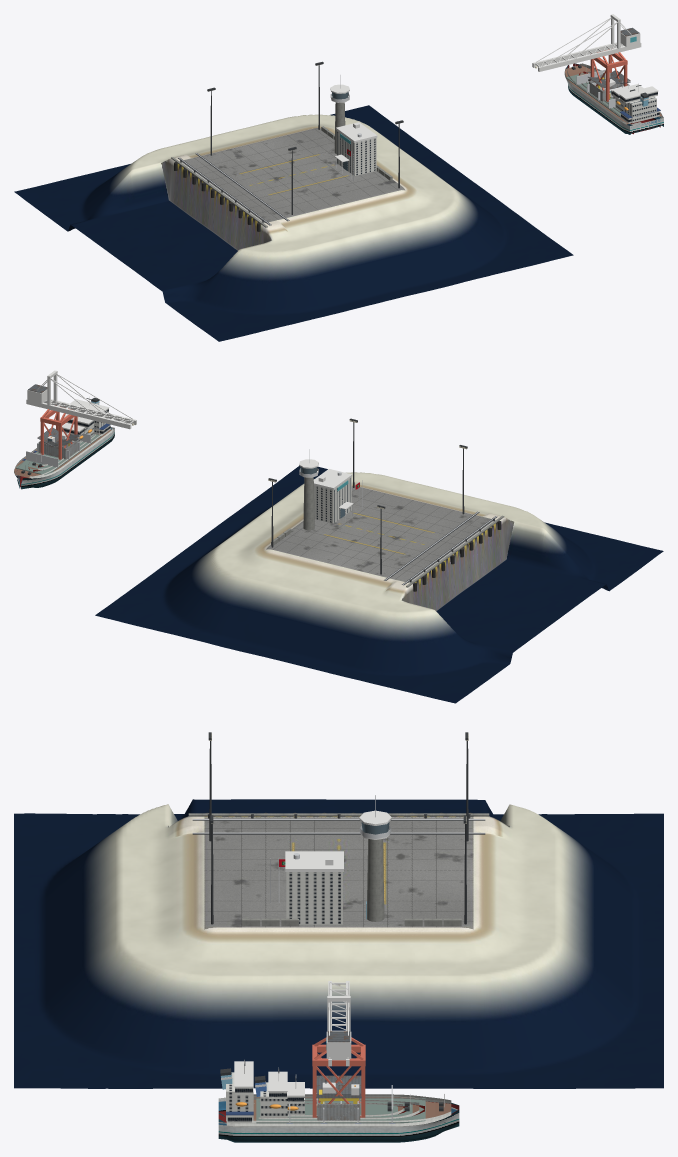
File: port.glb
The picture shows the model from 3 angles, top to bottom: view 1: azimuth 30°, elevation 25°; view 2: azimuth 150°, elevation 25°; view 3: azimuth 270°, elevation 25°; orthographic projection. The views are drawn at different scales.
Parts seen in each view (by area): view 1: terrain3, wharf3, sts_frame, ship_auto, ship_ulcc, bay_shed; view 2: terrain3, wharf3, sts_frame, ship_auto, ship_ulcc, bay_shed; view 3: terrain3, wharf3, ship_auto, ship_ulcc, sts_frame, ship_panamax, bay_shed, ship_feeder.
Boxes of the visible parts, bbox=[...] form: terrain3: bbox=[14, 105, 573, 341]; wharf3: bbox=[171, 61, 403, 231]; sts_frame: bbox=[532, 14, 641, 101]; ship_auto: bbox=[564, 63, 663, 134]; ship_ulcc: bbox=[567, 63, 660, 134]; bay_shed: bbox=[588, 70, 630, 101]; terrain3: bbox=[95, 466, 663, 703]; wharf3: bbox=[268, 418, 504, 591]; sts_frame: bbox=[26, 370, 136, 459]; ship_auto: bbox=[14, 423, 114, 489]; ship_ulcc: bbox=[16, 396, 111, 488]; bay_shed: bbox=[37, 427, 80, 459]; terrain3: bbox=[14, 799, 663, 1088]; wharf3: bbox=[188, 732, 489, 926]; ship_auto: bbox=[218, 1085, 459, 1142]; ship_ulcc: bbox=[218, 1059, 459, 1125]; sts_frame: bbox=[312, 981, 365, 1117]; ship_panamax: bbox=[254, 1067, 424, 1119]; bay_shed: bbox=[316, 1075, 361, 1120]; ship_feeder: bbox=[287, 1074, 407, 1116].
Bounding box in the file's own units: 118 × 27.66 × 80.
34 materials, 13 textured.
